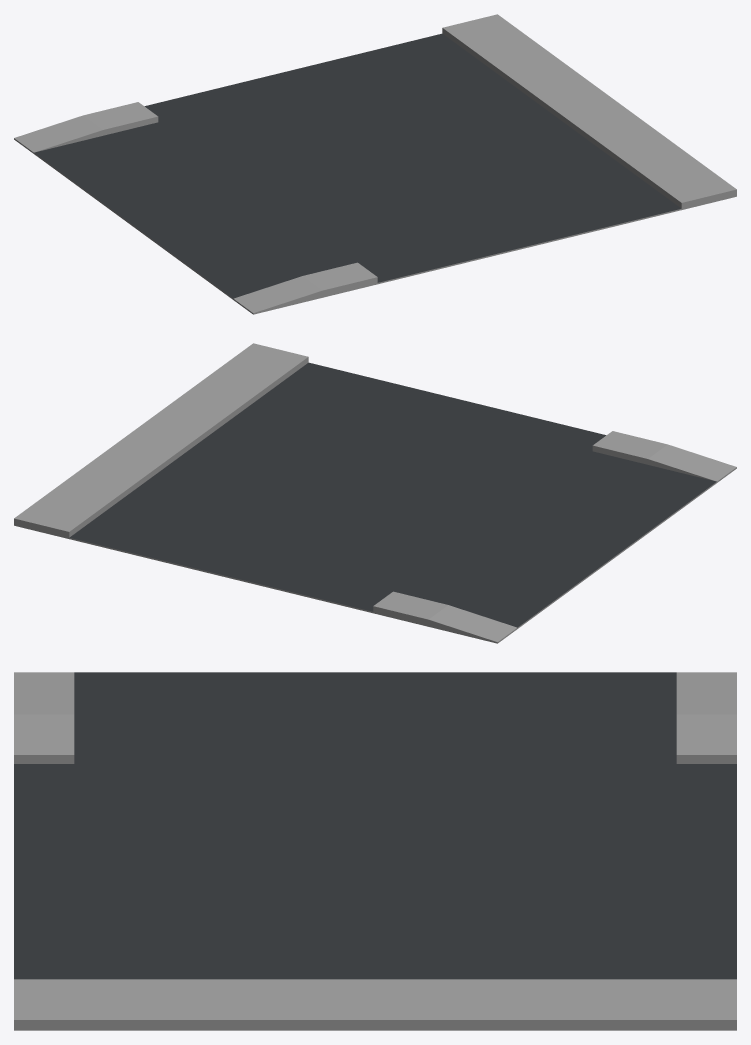
The model's file is Road_Straight_Connection.fbx.
3 views of the same model, one above another, from view 1: azimuth 30°, elevation 25°; view 2: azimuth 150°, elevation 25°; view 3: azimuth 270°, elevation 25° (orthographic). The views are drawn at different scales.
Visible parts, largest first — view 1: Road_Straight_Connection; view 2: Road_Straight_Connection; view 3: Road_Straight_Connection.
Boxes of the visible parts, <box> form: Road_Straight_Connection: <box>14,14,736,314</box>; Road_Straight_Connection: <box>14,343,736,643</box>; Road_Straight_Connection: <box>14,672,736,1030</box>.
Bounding box in the file's own units: 700 × 10 × 600.
